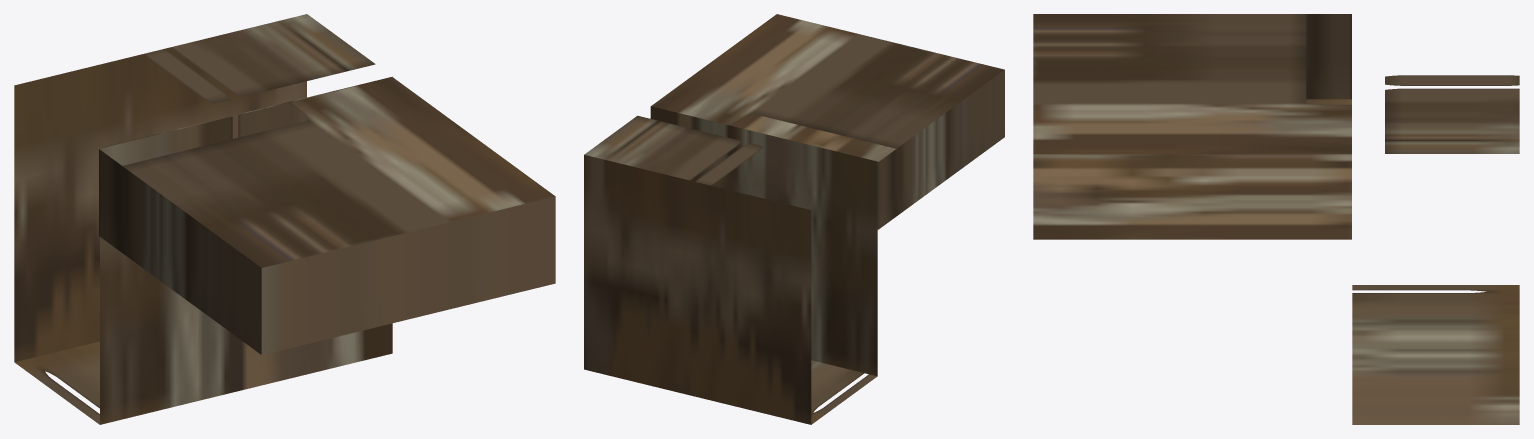
File: section-6.obj
The picture shows the model from 3 angles, left to right: view 1: azimuth 30°, elevation 25°; view 2: azimuth 150°, elevation 25°; view 3: azimuth 270°, elevation 25°; orthographic projection. The views are drawn at different scales.
Size of the model in its own units: 0.8217 by 0.74 by 1.2.
